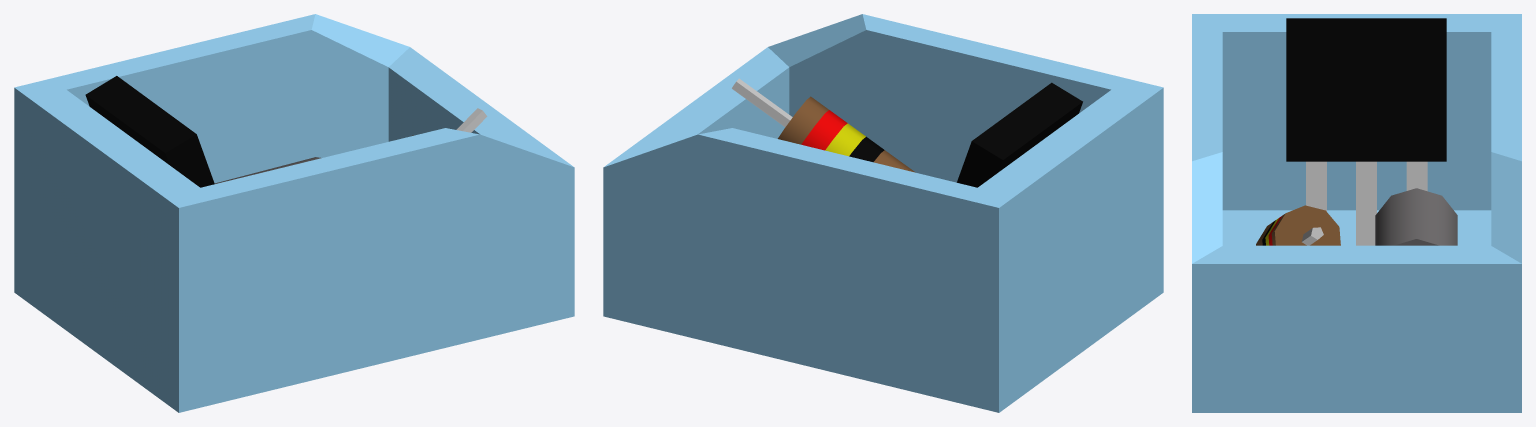
Rendered from Electronics.fbx.
The picture shows the model from 3 angles, left to right: view 1: azimuth 30°, elevation 25°; view 2: azimuth 150°, elevation 25°; view 3: azimuth 270°, elevation 25°; orthographic projection.
Parts seen in each view (by area): view 1: Electronics; view 2: Electronics; view 3: Electronics.
Boxes of the visible parts, left/top/right/bottom form: Electronics: left=14, top=14, right=574, bottom=412; Electronics: left=603, top=14, right=1163, bottom=412; Electronics: left=1192, top=14, right=1521, bottom=412.
Size of the model in its own units: 20 by 11.03 by 14.4.
